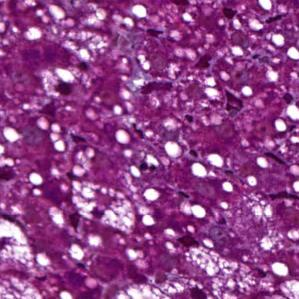ballooning: (68, 180, 141, 236)
